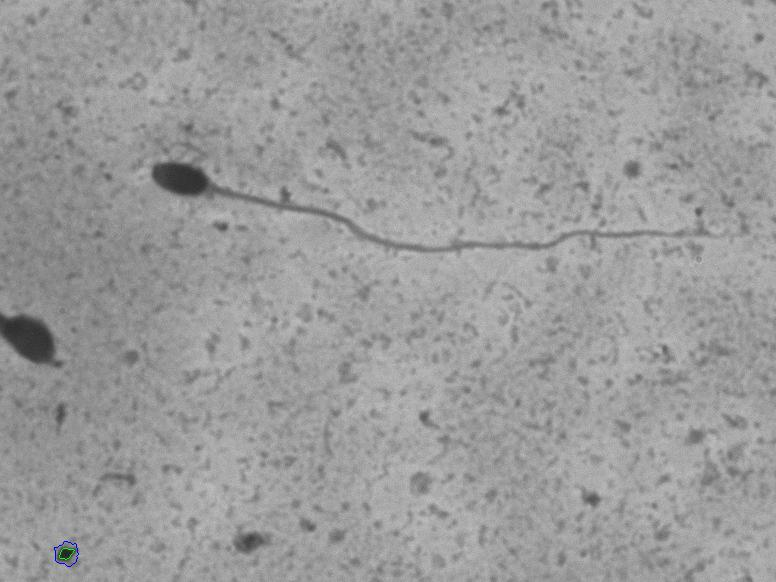Normal: (99, 139, 740, 290)
